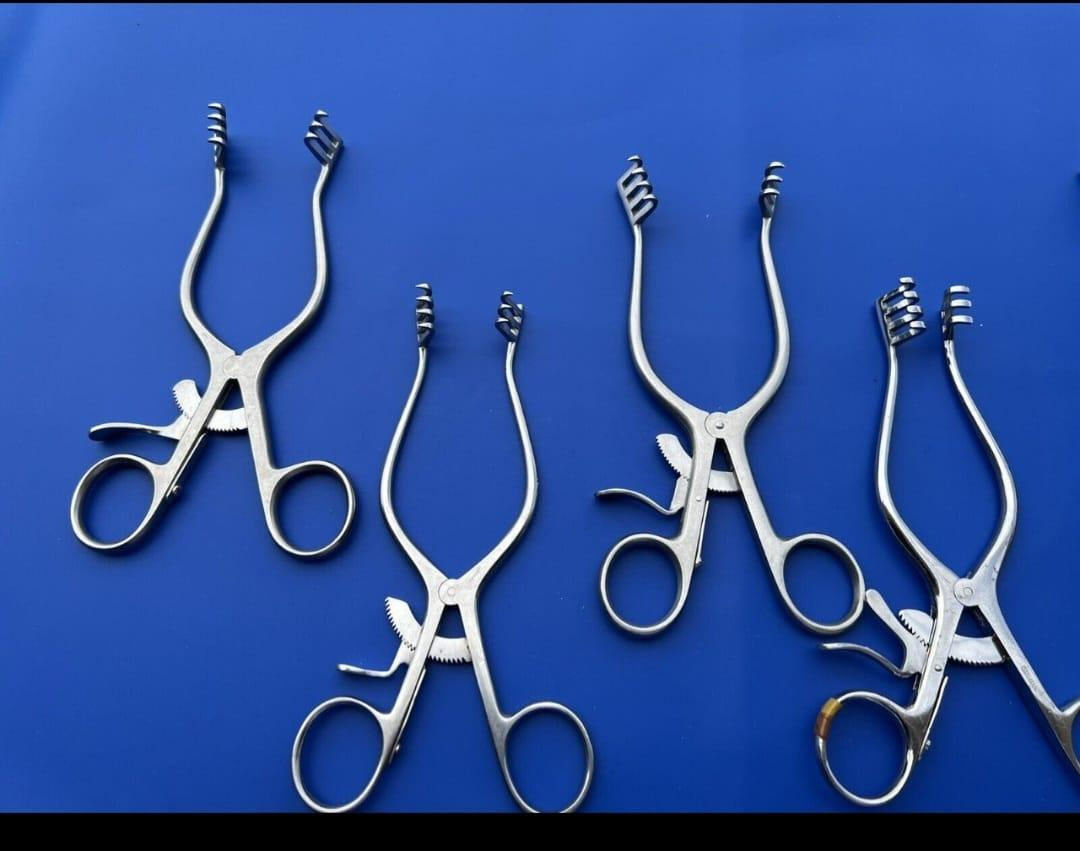Self Retractor: (293, 288, 619, 811), (804, 264, 1080, 815), (79, 108, 373, 574), (594, 155, 858, 648)
